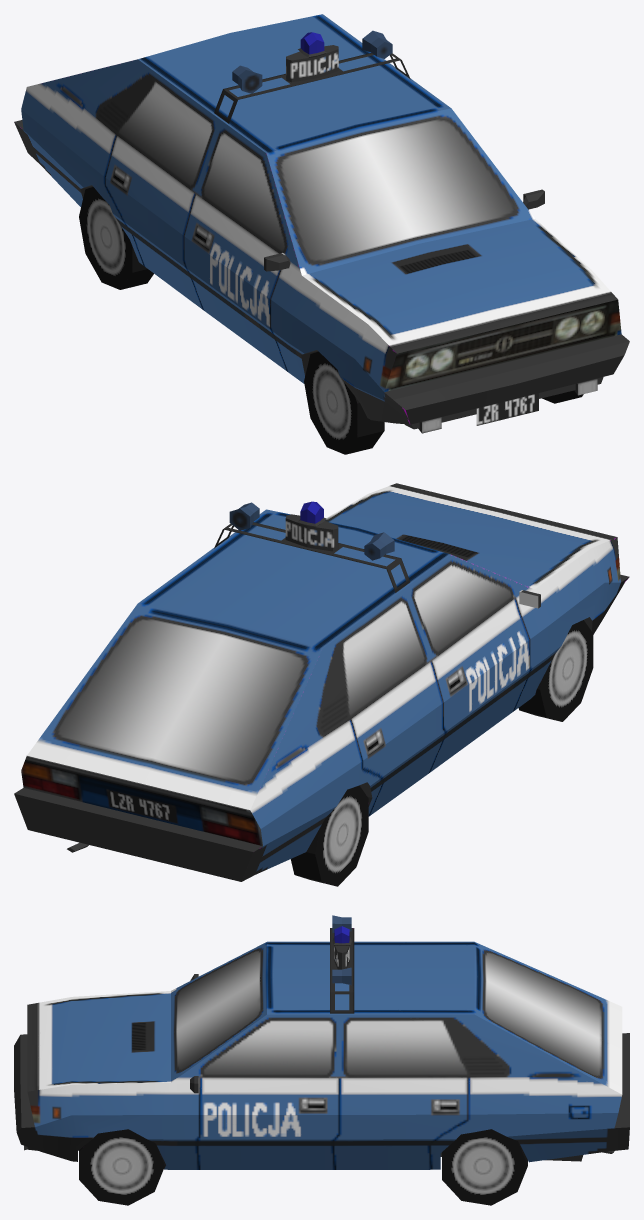
Rendered from polonez-police.fbx.
3 views of the same model, one above another, from view 1: azimuth 30°, elevation 25°; view 2: azimuth 150°, elevation 25°; view 3: azimuth 270°, elevation 25° (orthographic). The views are drawn at different scales.
Visible parts, largest first — view 1: Car; view 2: Car; view 3: Car.
Part boxes in pixels (x1,y1,x2,y2): Car: (14,14,629,454); Car: (14,483,629,886); Car: (14,915,629,1205).
Size of the model in its own units: 214 by 213 by 509.
